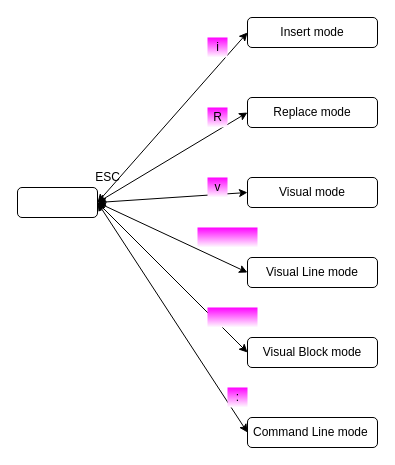
Image size: 395x465. Some labels were removed from this diagram. Each missing label, with the centre of its shape:
Ctrl + v: (232,317)
Normal: (57,202)
shift + v: (227,237)
